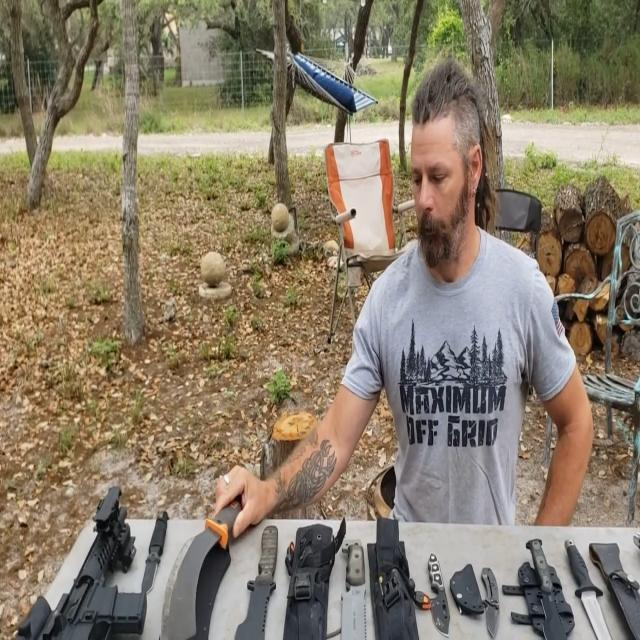knife: (152, 470, 252, 639), (221, 517, 293, 639), (558, 526, 626, 639), (333, 525, 386, 639), (527, 522, 573, 639), (130, 498, 174, 610), (418, 536, 458, 638), (472, 555, 505, 629)
long weapon: (0, 495, 178, 639)
